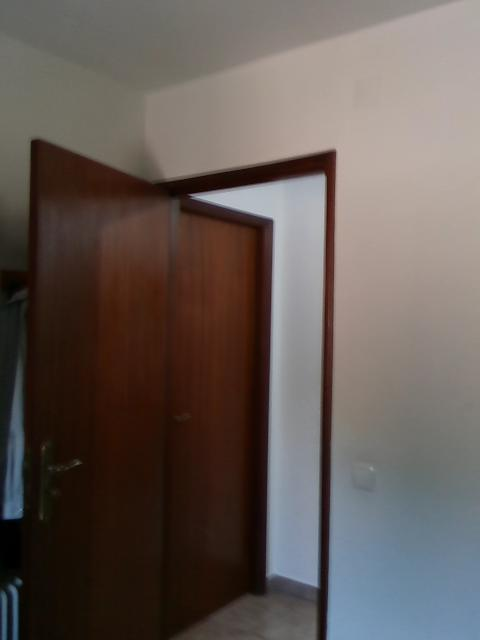open_door: (151, 146, 336, 639)
